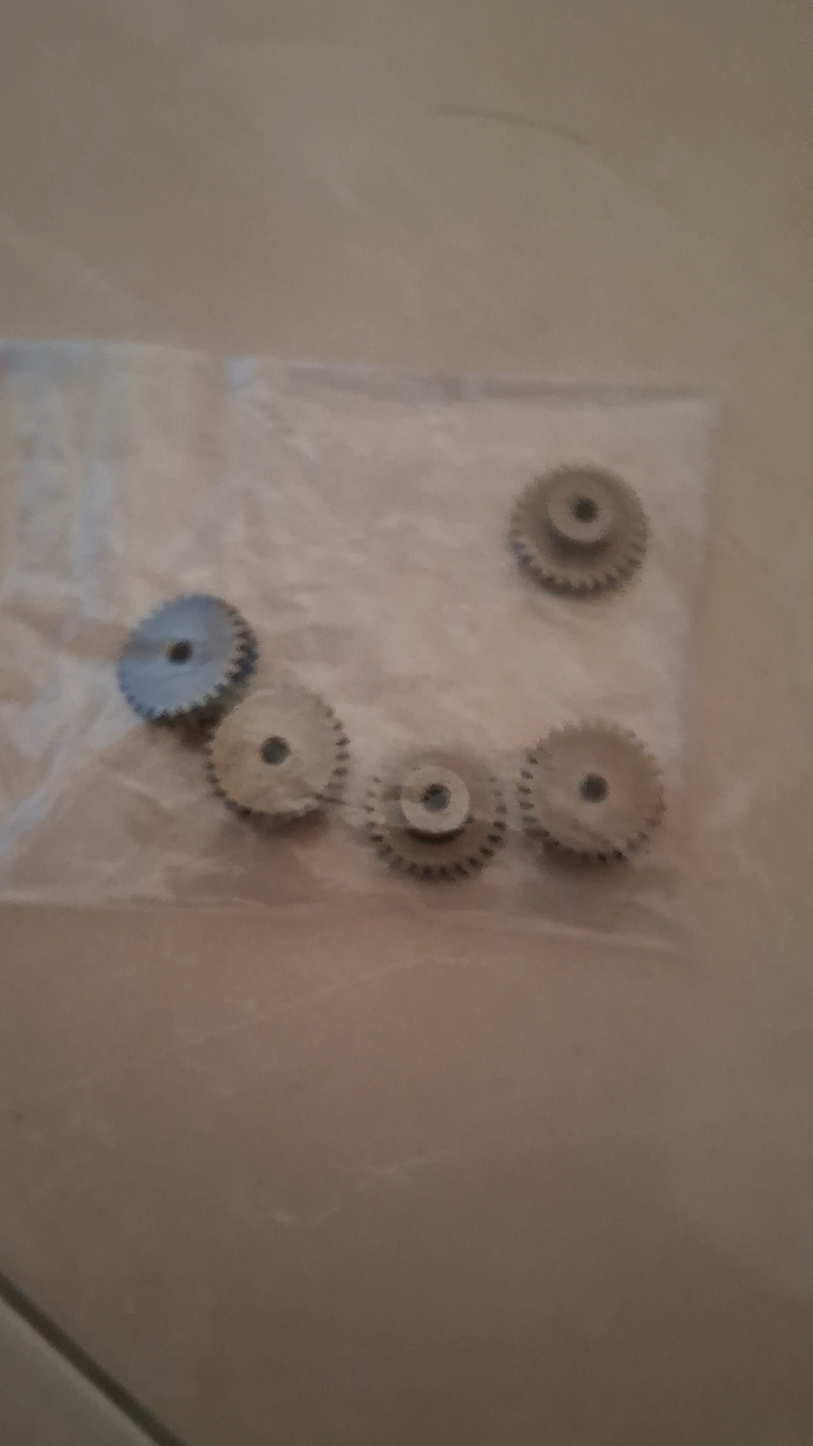spur gear: (518, 723, 664, 860), (207, 685, 349, 822), (365, 750, 505, 879), (510, 466, 647, 594), (118, 595, 257, 721)
